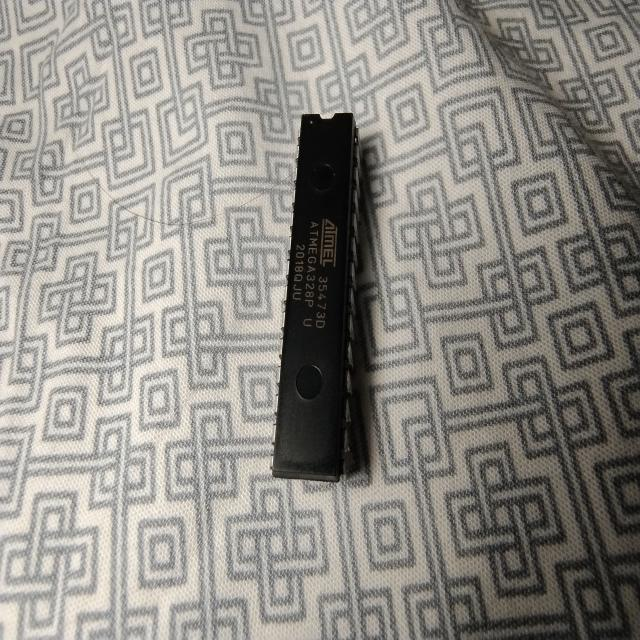atmega: (268, 110, 362, 484)
